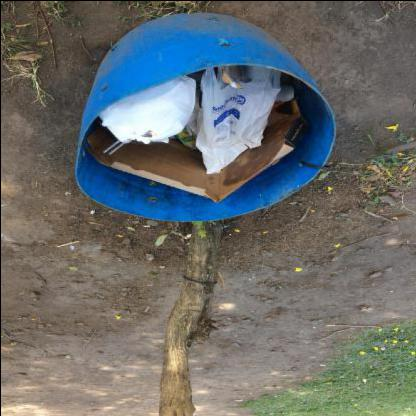Carton: (84, 99, 310, 202), (175, 125, 197, 148)
Cigarette: (143, 224, 150, 226)
Cup: (274, 83, 294, 102)
Plastic bag - wrapper: (184, 65, 280, 173), (98, 75, 196, 143), (220, 64, 243, 89)
Straw: (102, 138, 120, 152), (107, 142, 124, 154)
